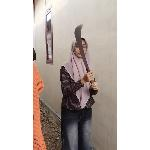Golok: (73, 19, 100, 89)
